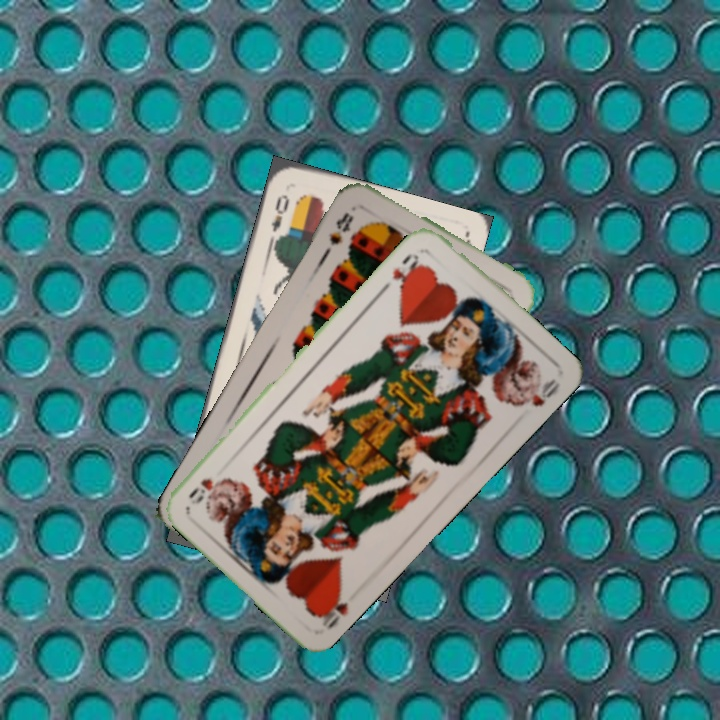EO: (267, 190, 292, 235)
HO: (313, 584, 351, 632), (388, 249, 425, 291)
S8: (324, 208, 357, 248)
